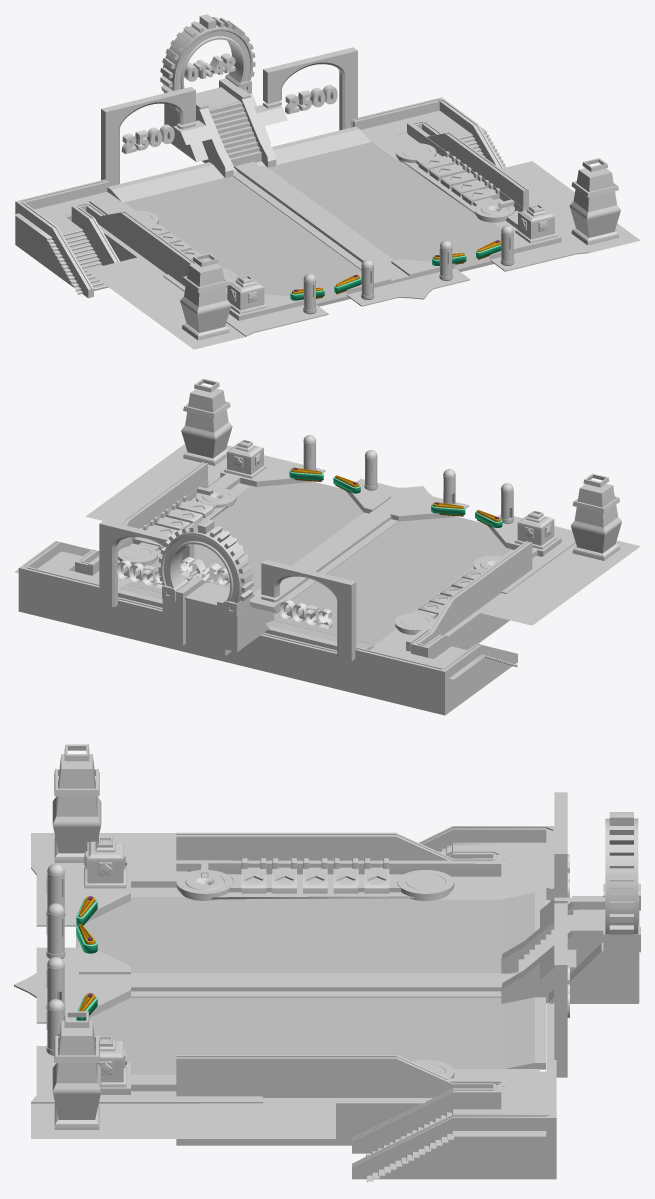
Rendered from currentshow (1).fbx.
3 views of the same model, one above another, from view 1: azimuth 30°, elevation 25°; view 2: azimuth 150°, elevation 25°; view 3: azimuth 270°, elevation 25° (orthographic). The views are drawn at different scales.
Visible parts, largest first — view 1: 18x40 - buffer002, 18x40 - buffer, Object005, Object006, Box001, Object007, Box002, archway09, object090, Object008, archway10, archway08 (+21 smaller); view 2: Box001, 18x40 - buffer, 18x40 - buffer002, Object005, Box002, Object007, archway09, Object006, archway07, Object008, archway08, Box043 (+20 smaller); view 3: 18x40 - buffer, 18x40 - buffer002, Box043, Object007, Box001, Object006, Object005, archway09, Box002, object090, Object008, Box003 (+22 smaller).
Part boxes in pixels (<box>): 18x40 - buffer002: <box>268,142,501,271</box>; 18x40 - buffer: <box>124,176,361,306</box>; Object005: <box>14,192,328,349</box>; Object006: <box>233,161,470,304</box>; Box001: <box>15,97,503,298</box>; Object007: <box>361,110,640,271</box>; Box002: <box>71,202,195,286</box>; archway09: <box>164,82,287,177</box>; object090: <box>36,113,476,290</box>; Object008: <box>233,163,466,306</box>; archway10: <box>164,74,261,167</box>; archway08: <box>263,47,357,130</box>; Box001: <box>18,541,517,715</box>; 18x40 - buffer: <box>274,516,511,644</box>; 18x40 - buffer002: <box>127,481,363,593</box>; Object005: <box>399,514,640,679</box>; Box002: <box>411,541,532,658</box>; Object007: <box>14,444,325,578</box>; archway09: <box>162,580,281,655</box>; Object006: <box>253,478,465,602</box>; archway07: <box>261,560,356,661</box>; Object008: <box>253,480,469,601</box>; archway08: <box>99,520,194,606</box>; Box043: <box>75,462,207,575</box>; 18x40 - buffer: <box>76,897,502,972</box>; 18x40 - buffer002: <box>85,997,502,1074</box>; Box043: <box>176,1055,501,1153</box>; Object007: <box>31,1046,546,1182</box>; Box001: <box>352,826,556,1179</box>; Object006: <box>14,943,516,1023</box>; Object005: <box>31,833,546,926</box>; archway09: <box>501,897,639,1003</box>; Box002: <box>176,832,501,860</box>; object090: <box>366,845,539,1156</box>; Object008: <box>14,942,516,1006</box>; Box003: <box>176,860,501,1084</box>.
Bounding box in the file's own units: 204 × 68.51 × 176.
